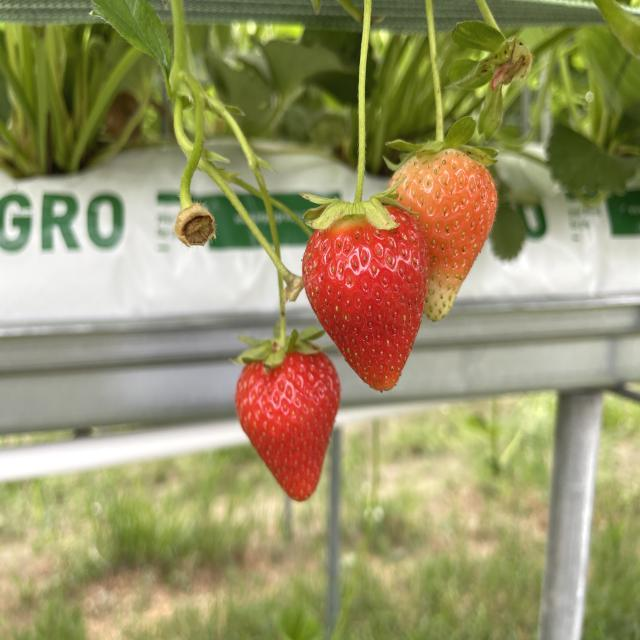stem: (304, 0, 398, 230), (388, 0, 493, 160), (238, 180, 321, 369)
strawberryR: (302, 206, 428, 391), (390, 149, 498, 321), (235, 352, 340, 501)
